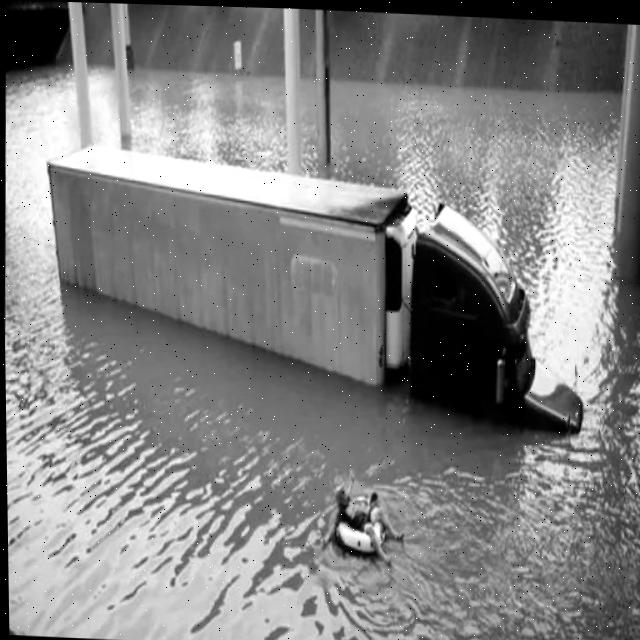civilian: (312, 472, 413, 571)
